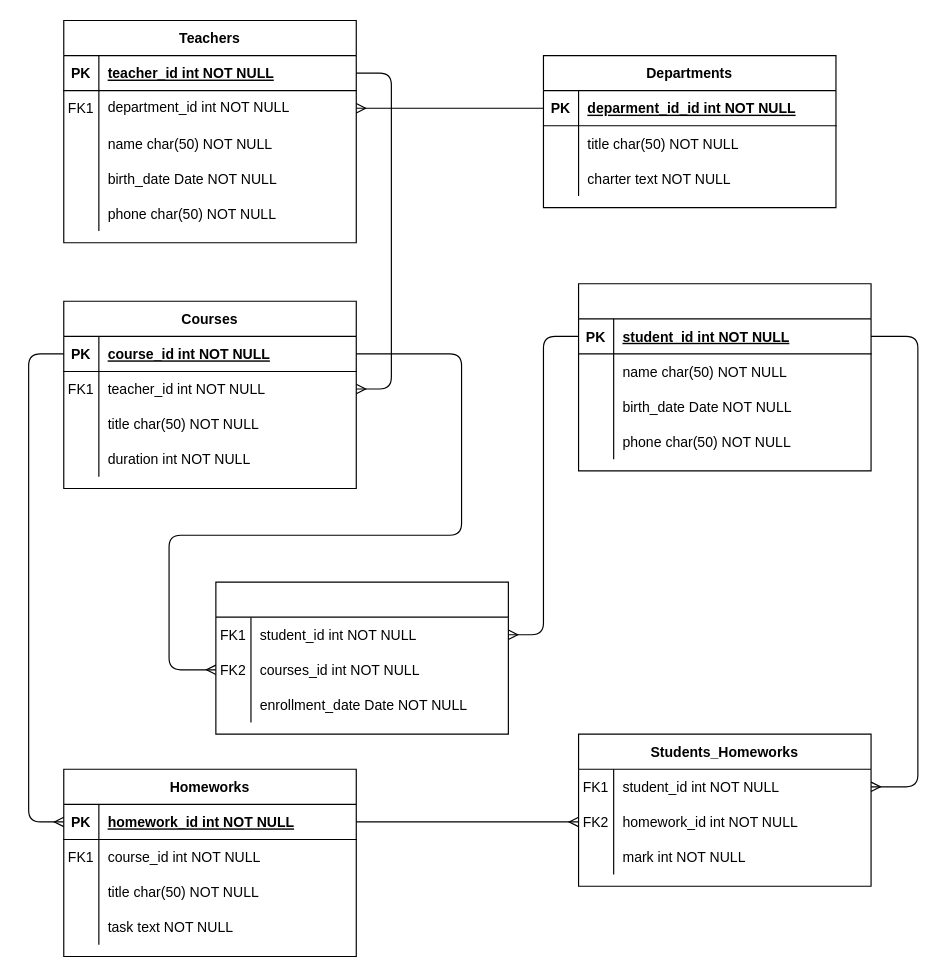
This 948x977 diagram has some shape labels left out. The box of each missing label's shape, as (x1, y1, x2, y2) in pixels:
Students: (577, 283, 871, 471)
Students_Courses: (215, 581, 508, 734)
